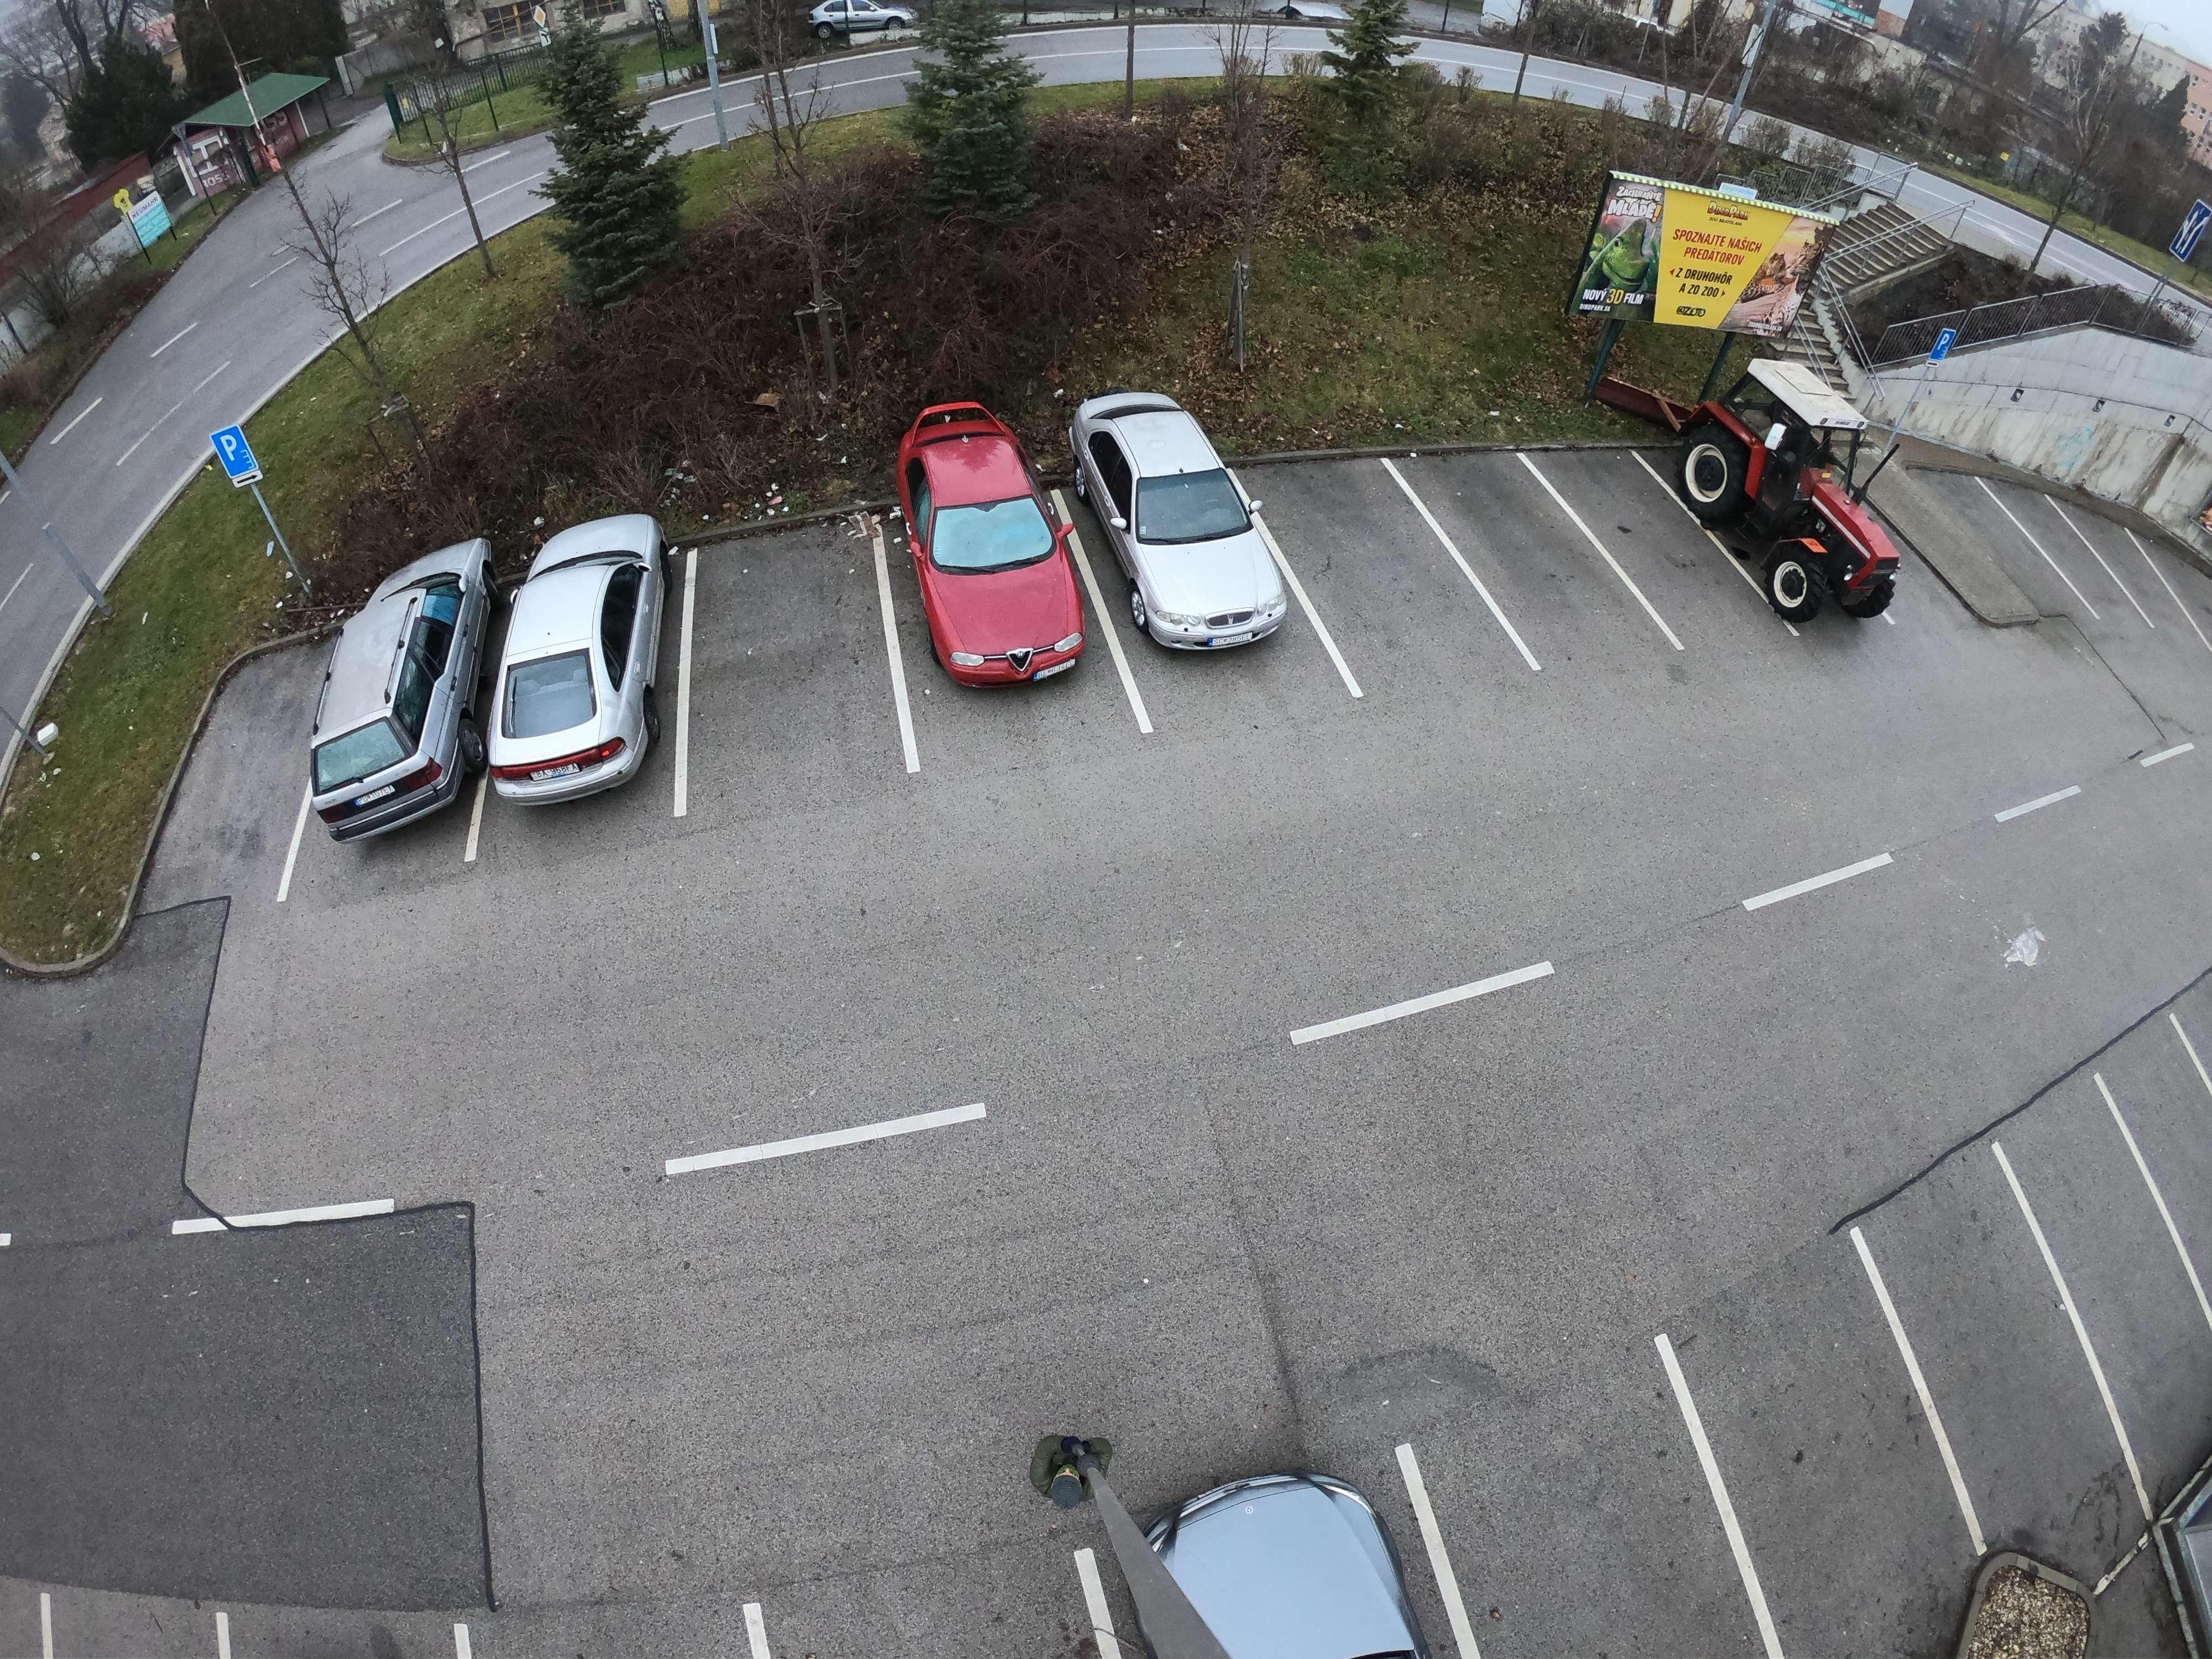empty: (1653, 329, 1933, 615), (1122, 1450, 1491, 1657), (874, 392, 1108, 695), (479, 509, 691, 809), (1069, 390, 1298, 666), (303, 552, 495, 843)
occupied: (1480, 1492, 1705, 1650), (1733, 1384, 1919, 1551), (1935, 1295, 2095, 1441), (700, 586, 866, 721), (2067, 1209, 2200, 1349), (1308, 519, 1444, 631), (1590, 472, 1689, 586), (1465, 509, 1571, 601), (2015, 525, 2074, 613), (2085, 547, 2127, 641)
